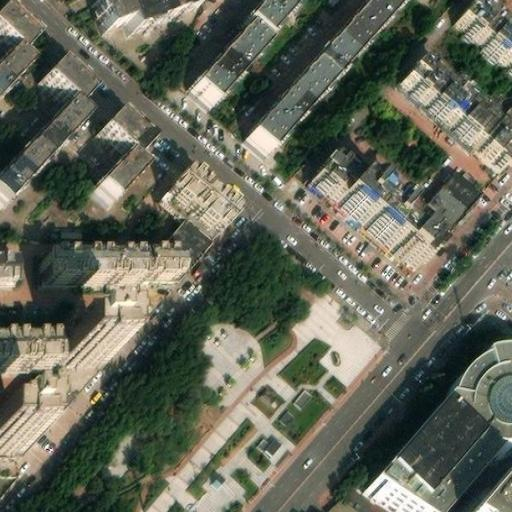building: (386, 384, 509, 511), (0, 58, 93, 203), (403, 49, 512, 165), (345, 159, 444, 252), (452, 331, 512, 432), (206, 4, 281, 84), (151, 206, 218, 274), (171, 160, 240, 226), (99, 118, 151, 205), (48, 245, 179, 279), (417, 175, 470, 229), (0, 317, 72, 352), (475, 457, 512, 512), (0, 3, 41, 52), (312, 146, 356, 190), (76, 316, 124, 347), (0, 252, 12, 281)
